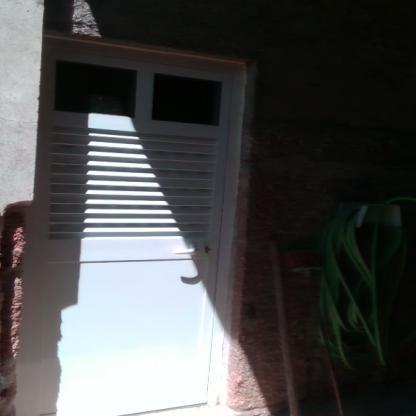door: (44, 46, 219, 408)
lever: (174, 248, 198, 256)
